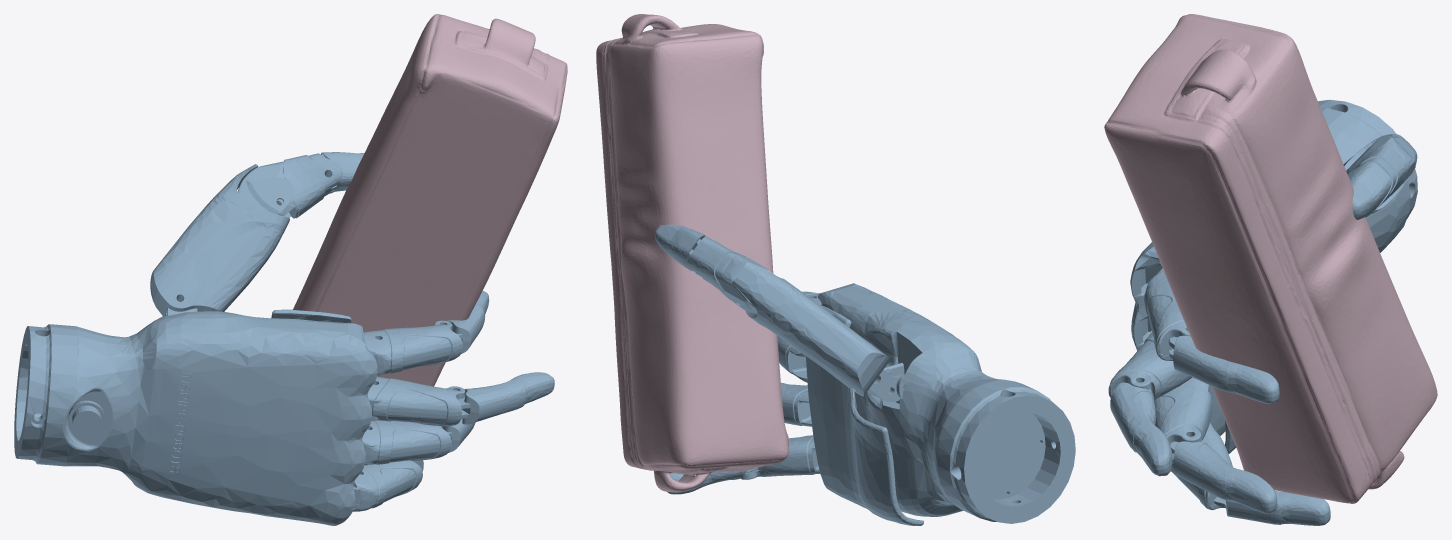
3 renders of one model, left to right at view 1: azimuth 30°, elevation 25°; view 2: azimuth 150°, elevation 25°; view 3: azimuth 270°, elevation 25°, orthographic. The views are drawn at different scales.
Parts seen in each view (by area): view 1: world, obj_mesh_grasp_65.obj; view 2: obj_mesh_grasp_65.obj, world; view 3: obj_mesh_grasp_65.obj, world.
Part boxes in pixels (bbox=[...]): world: bbox=[14, 152, 554, 525]; obj_mesh_grasp_65.obj: bbox=[293, 14, 567, 420]; obj_mesh_grasp_65.obj: bbox=[596, 14, 788, 492]; world: bbox=[654, 224, 1075, 525]; obj_mesh_grasp_65.obj: bbox=[1104, 14, 1437, 503]; world: bbox=[1108, 99, 1417, 525].
Size of the model in its own units: 0.2298 by 0.1897 by 0.1118.
